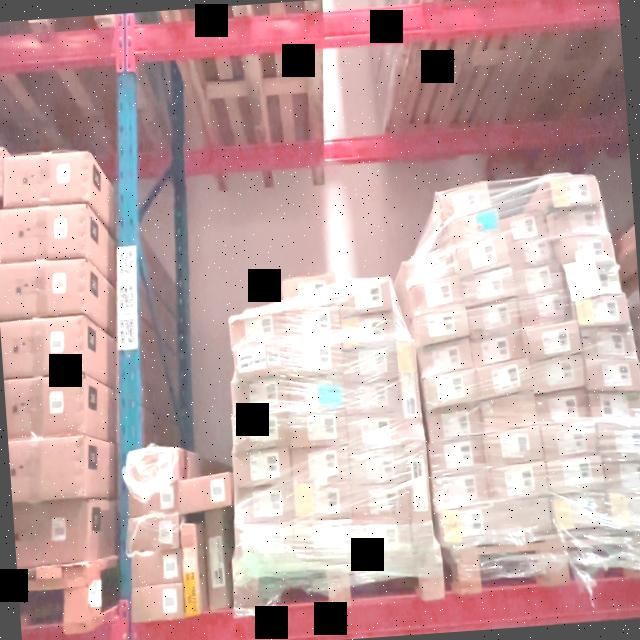box: (9, 436, 88, 501), (0, 316, 85, 376), (5, 377, 87, 439), (0, 260, 87, 318), (18, 498, 92, 566), (0, 205, 88, 262), (2, 152, 91, 204), (407, 438, 435, 551), (203, 510, 230, 612), (397, 338, 424, 438), (230, 448, 290, 488), (234, 483, 294, 523), (545, 454, 603, 495), (488, 462, 547, 502), (294, 521, 354, 560), (294, 482, 352, 522), (492, 500, 552, 538), (288, 411, 348, 449), (291, 445, 351, 483), (484, 428, 542, 467), (236, 523, 295, 561), (231, 413, 288, 452), (232, 378, 289, 417), (288, 374, 345, 413), (353, 482, 408, 522), (554, 493, 610, 532), (178, 472, 235, 510), (232, 342, 290, 379), (422, 372, 478, 410), (429, 439, 485, 477), (433, 470, 490, 507), (542, 422, 597, 460), (179, 522, 201, 617), (413, 307, 469, 344), (456, 237, 512, 274), (353, 520, 409, 557), (567, 260, 624, 296), (526, 324, 582, 360), (475, 362, 531, 398), (288, 341, 344, 377), (132, 584, 185, 622), (441, 507, 494, 545), (584, 358, 638, 395), (480, 395, 537, 430), (531, 357, 586, 393), (284, 305, 340, 340), (348, 413, 398, 452), (582, 326, 636, 362), (127, 447, 181, 483), (352, 450, 403, 488), (346, 379, 398, 416), (575, 294, 628, 330), (410, 276, 463, 312), (230, 310, 286, 344), (130, 516, 180, 554), (426, 407, 480, 442), (462, 269, 516, 304), (589, 390, 640, 427), (466, 300, 518, 336), (344, 346, 396, 382), (438, 183, 491, 218), (341, 278, 394, 313), (342, 311, 395, 346), (418, 342, 472, 376), (549, 172, 599, 208), (448, 210, 502, 243), (537, 390, 589, 424), (282, 274, 334, 308), (128, 482, 178, 517), (470, 334, 523, 367), (558, 234, 615, 264), (519, 292, 572, 324), (134, 552, 182, 586), (552, 205, 604, 236), (598, 422, 640, 460), (405, 251, 456, 282), (516, 266, 564, 298), (502, 212, 552, 242), (510, 238, 558, 268), (604, 458, 640, 495), (607, 494, 640, 528), (0, 149, 6, 199)
